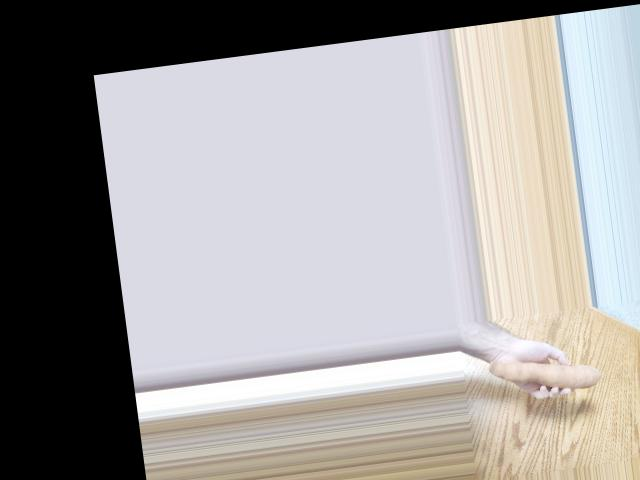sweet_potato: (493, 343, 608, 405)
